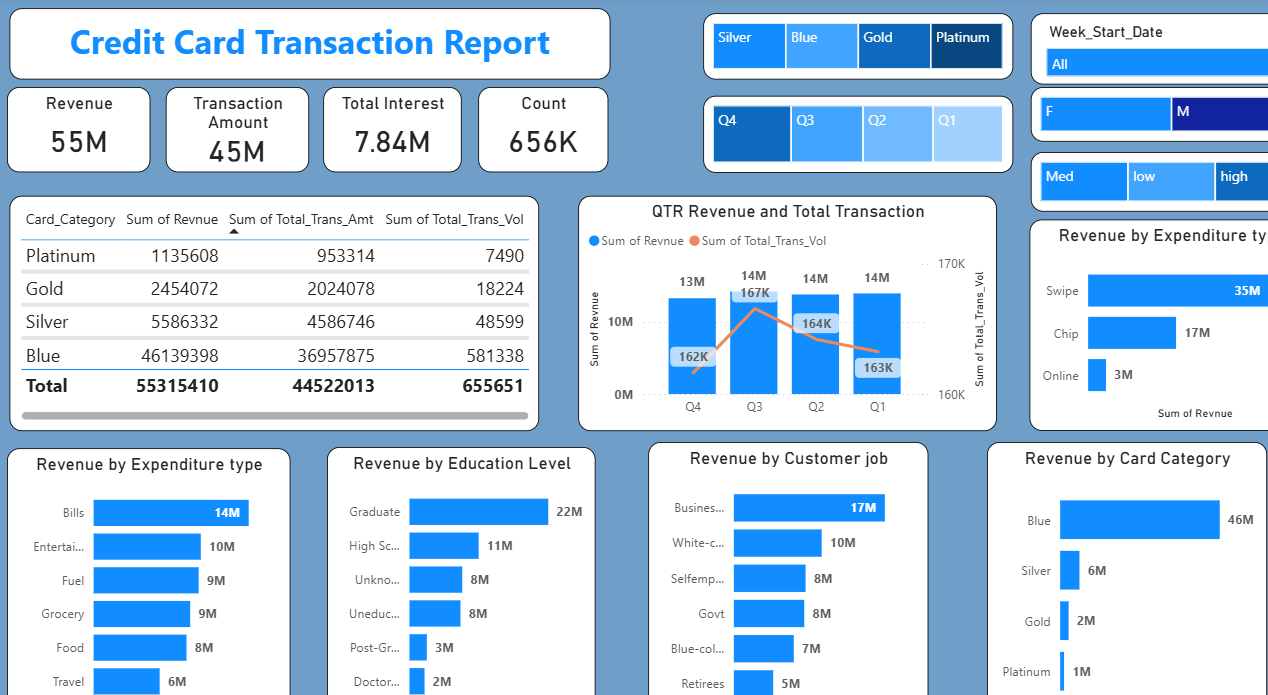

The page's visual inventory and layout, read from the dashboard file:
{"tool":"powerbi","page":{"name":"cc Transaction","canvas":[1280,720],"ordinal":0},"visuals":[{"type":"textbox","box":[12.1,10.9,580.3,68.8],"z":0},{"type":"lineStackedColumnComboChart","title":"QTR Revenue and  Total Transaction","fields":{"Category":["credit_card.Qtr"],"Y":["Sum(credit_card.Revnue)"],"Y2":["Sum(credit_card.Total_Trans_Vol)"]},"box":[561,191.8,404.2,226.8],"z":1000},{"type":"barChart","title":"Revenue by Expenditure type","fields":{"Category":["credit_card.Exp Type"],"Y":["Sum(credit_card.Revnue)"]},"box":[9.7,435.5,273.9,261.8],"z":2000},{"type":"barChart","title":"Revenue by Education Level","fields":{"Category":["customer.Education_Level"],"Y":["Sum(credit_card.Revnue)"]},"box":[318.5,434.3,259.4,263],"z":3000},{"type":"barChart","title":"Revenue by Customer job","fields":{"Category":["customer.Customer_Job"],"Y":["Sum(credit_card.Revnue)"]},"box":[628.6,429.5,270.2,271.4],"z":4000},{"type":"barChart","title":"Revenue by Card Category","fields":{"Category":["credit_card.Card_Category"],"Y":["Sum(credit_card.Revnue)"]},"box":[955.5,429.5,270.2,271.4],"z":5000},{"type":"barChart","title":"Revenue by Expenditure type","fields":{"Category":["credit_card.Use Chip"],"Y":["Sum(credit_card.Revnue)"]},"box":[996.5,214.7,273.9,203.9],"z":6000},{"type":"tableEx","fields":{"Values":["credit_card.Card_Category","Sum(credit_card.Revnue)","Sum(credit_card.Total_Trans_Amt)","Sum(credit_card.Total_Trans_Vol)"]},"box":[12.1,191.8,511.5,226.8],"z":7000},{"type":"card","title":"Revenue","fields":{"Values":["Sum(credit_card.Revnue)"]},"box":[9.3,87.2,138.4,82.6],"z":8000},{"type":"card","title":"Transaction Amount","fields":{"Values":["Sum(credit_card.Total_Trans_Amt)"]},"box":[162.8,87.2,138.4,82.6],"z":9000},{"type":"card","title":"Total Interest","fields":{"Values":["Sum(credit_card.Interest_Earned)"]},"box":[315.1,87.2,133.7,82.6],"z":10000},{"type":"card","title":"Count","fields":{"Values":["Sum(credit_card.Total_Trans_Vol)"]},"box":[464,87.2,125.6,82.6],"z":11000},{"type":"slicer","fields":{"Values":["credit_card.Week_Start_Date"]},"box":[997.7,15.7,272.7,68.8],"z":12000},{"type":"treemap","fields":{"Group":["credit_card.Qtr"],"Values":["Avg(credit_card.Client_Num)"]},"box":[681.3,95.7,299.4,74.6],"z":13000},{"type":"treemap","fields":{"Group":["customer.Gender"],"Values":["Avg(credit_card.Client_Num)"]},"box":[997.7,86.9,272.7,53.1],"z":14000},{"type":"treemap","fields":{"Group":["credit_card.Card_Category"],"Values":["Avg(credit_card.Client_Num)"]},"box":[681.6,15.7,299.2,63.9],"z":15000},{"type":"treemap","fields":{"Group":["customer.income group"],"Values":["Avg(credit_card.Client_Num)"]},"box":[997.7,149.6,272.7,57.9],"z":16000}]}

Visuals, with their boxes in screenshot pixels (x1, y1, x2, y2), scaled from the page's 1280x720 canvas onto the 1268x695 screenshot:
textbox: [x1=12, y1=11, x2=587, y2=77]
"QTR Revenue and  Total Transaction" lineStackedColumnComboChart: [x1=556, y1=185, x2=956, y2=404]
"Revenue by Expenditure type" barChart: [x1=10, y1=420, x2=281, y2=673]
"Revenue by Education Level" barChart: [x1=316, y1=419, x2=572, y2=673]
"Revenue by Customer job" barChart: [x1=623, y1=415, x2=890, y2=677]
"Revenue by Card Category" barChart: [x1=947, y1=415, x2=1214, y2=677]
"Revenue by Expenditure type" barChart: [x1=987, y1=207, x2=1258, y2=404]
tableEx - credit_card.Card_Category x Sum(credit_card.Revnue): [x1=12, y1=185, x2=519, y2=404]
"Revenue" card: [x1=9, y1=84, x2=146, y2=164]
"Transaction Amount" card: [x1=161, y1=84, x2=298, y2=164]
"Total Interest" card: [x1=312, y1=84, x2=445, y2=164]
"Count" card: [x1=460, y1=84, x2=584, y2=164]
slicer - credit_card.Week_Start_Date: [x1=988, y1=15, x2=1258, y2=82]
treemap - credit_card.Qtr x Avg(credit_card.Client_Num): [x1=675, y1=92, x2=972, y2=164]
treemap - customer.Gender x Avg(credit_card.Client_Num): [x1=988, y1=84, x2=1258, y2=135]
treemap - credit_card.Card_Category x Avg(credit_card.Client_Num): [x1=675, y1=15, x2=972, y2=77]
treemap - customer.income group x Avg(credit_card.Client_Num): [x1=988, y1=144, x2=1258, y2=200]
